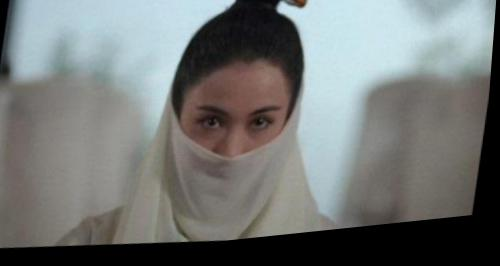WRONG: (172, 76, 296, 224)
